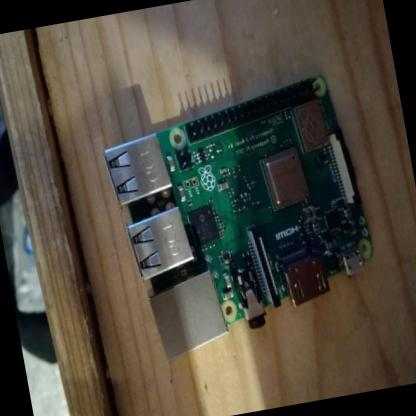Raspberry_Pi_3: (92, 65, 389, 370)
